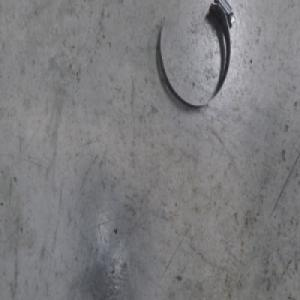AdjustableClamp: (159, 1, 238, 109)
